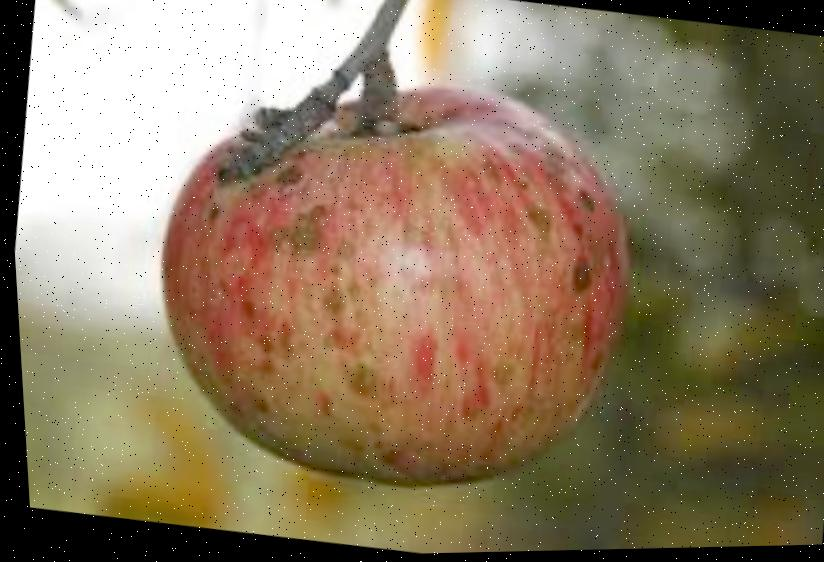BLOTCH: (103, 20, 693, 535)
